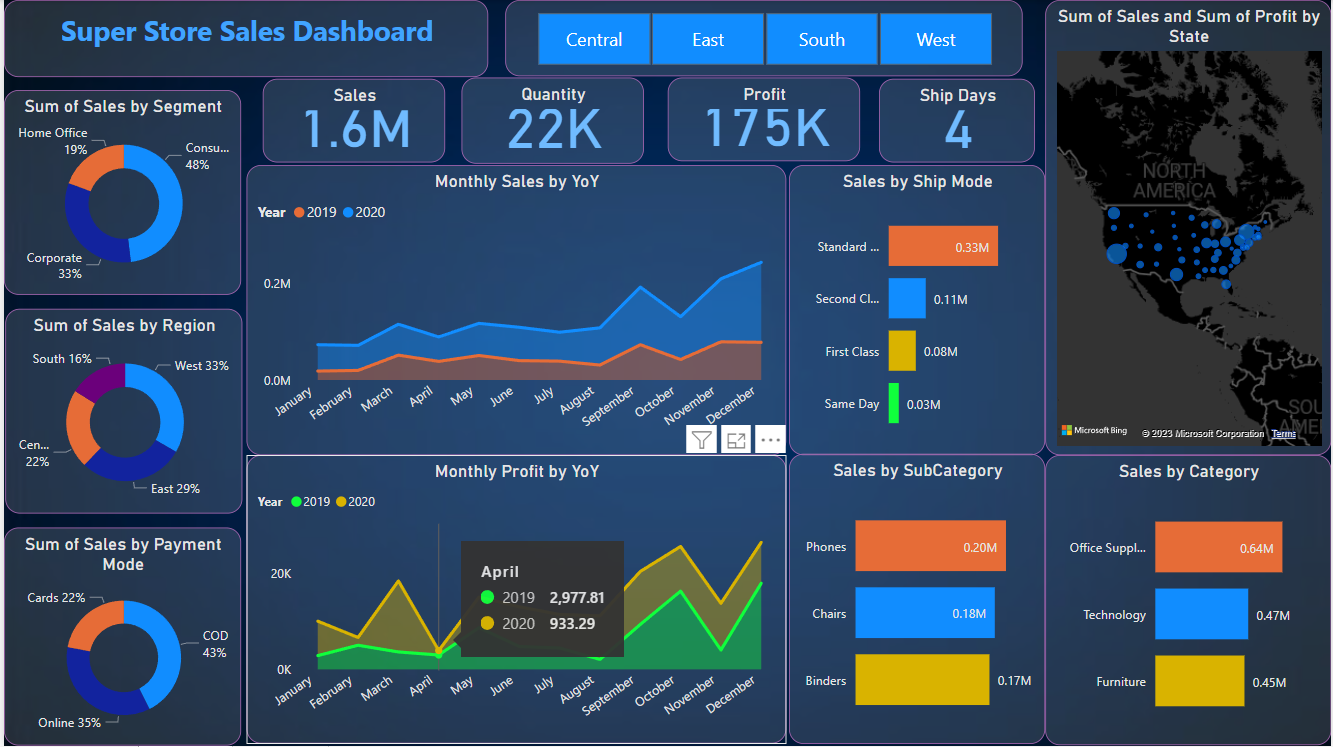

The dashboard page shown, as its layout file describes it:
{"tool":"powerbi","page":{"name":"Page 1","canvas":[1280,720],"ordinal":0},"visuals":[{"type":"clusteredBarChart","title":"Sales by Category","fields":{"Category":["SuperStore_Sales_Dataset (2).Category"],"Y":["Sum(SuperStore_Sales_Dataset (2).Sales)"]},"box":[1004.6,439,276.2,279.8],"z":0},{"type":"clusteredBarChart","title":"Sales by SubCategory","fields":{"Category":["SuperStore_Sales_Dataset (2).Sub-Category"],"Y":["Sum(SuperStore_Sales_Dataset (2).Sales)"]},"box":[757.4,437.8,247.2,279.8],"z":1000},{"type":"clusteredBarChart","title":"Sales by Ship Mode","fields":{"Category":["SuperStore_Sales_Dataset (2).Ship Mode"],"Y":["Sum(SuperStore_Sales_Dataset (2).Sales)"]},"box":[757.4,159.2,247.2,279.8],"z":2000},{"type":"stackedAreaChart","title":"Monthly Sales by YoY","fields":{"Y":["Sum(SuperStore_Sales_Dataset (2).Sales)"],"Category":["SuperStore_Sales_Dataset (2).Order Date.Variation.Date Hierarchy.Month"],"Series":["SuperStore_Sales_Dataset (2).Order Date.Variation.Date Hierarchy.Year"]},"box":[234,159.2,521,279.8],"z":3000},{"type":"stackedAreaChart","title":"Monthly Profit by YoY","fields":{"Series":["SuperStore_Sales_Dataset (2).Order Date.Variation.Date Hierarchy.Year"],"Category":["SuperStore_Sales_Dataset (2).Order Date.Variation.Date Hierarchy.Month"],"Y":["Sum(SuperStore_Sales_Dataset (2).Profit)"]},"box":[234,439,521,278.6],"z":4000},{"type":"map","fields":{"Category":["SuperStore_Sales_Dataset (2).State"],"Size":["Sum(SuperStore_Sales_Dataset (2).Sales)"]},"box":[1004.6,0,276.2,439],"z":5000},{"type":"donutChart","fields":{"Category":["SuperStore_Sales_Dataset (2).Segment"],"Y":["Sum(SuperStore_Sales_Dataset (2).Sales)"]},"box":[0,87.2,228.8,197.5],"z":6000},{"type":"donutChart","fields":{"Category":["SuperStore_Sales_Dataset (2).Region"],"Y":["Sum(SuperStore_Sales_Dataset (2).Sales)"]},"box":[1.6,297.9,228.8,197.5],"z":7000},{"type":"donutChart","fields":{"Y":["Sum(SuperStore_Sales_Dataset (2).Sales)"],"Category":["SuperStore_Sales_Dataset (2).Payment Mode"]},"box":[0,508.6,228.8,210.7],"z":8000},{"type":"slicer","fields":{"Values":["SuperStore_Sales_Dataset (2).Region"]},"box":[483.6,0,499.3,73.6],"z":9000},{"type":"textbox","box":[0,0,467.5,74.1],"z":10000},{"type":"card","title":"Sales","fields":{"Values":["Sum(SuperStore_Sales_Dataset (2).Sales)"]},"box":[250.2,75.7,176.1,80.7],"z":11000},{"type":"card","title":"Quantity","fields":{"Values":["Sum(SuperStore_Sales_Dataset (2).Quantity)"]},"box":[447.7,75.7,176.1,84],"z":12000},{"type":"card","title":"Profit","fields":{"Values":["Sum(SuperStore_Sales_Dataset (2).Profit)"]},"box":[640.3,74.1,186,82.3],"z":13000},{"type":"card","title":"Ship Days","fields":{"Values":["Avg(SuperStore_Sales_Dataset.AvgDelivery)"]},"box":[844.5,75.7,159.7,80.7],"z":14000}]}

Visuals, with their boxes in screenshot pixels (x1, y1, x2, y2), scaled from the page's 1280x720 canvas onto the 1333x747 screenshot:
"Sales by Category" clusteredBarChart: detection(1046, 455, 1332, 746)
"Sales by SubCategory" clusteredBarChart: detection(789, 454, 1046, 745)
"Sales by Ship Mode" clusteredBarChart: detection(789, 165, 1046, 455)
"Monthly Sales by YoY" stackedAreaChart: detection(244, 165, 786, 455)
"Monthly Profit by YoY" stackedAreaChart: detection(244, 455, 786, 745)
map - SuperStore_Sales_Dataset (2).State x Sum(SuperStore_Sales_Dataset (2).Sales): detection(1046, 0, 1332, 455)
donutChart - SuperStore_Sales_Dataset (2).Segment x Sum(SuperStore_Sales_Dataset (2).Sales): detection(0, 90, 238, 295)
donutChart - SuperStore_Sales_Dataset (2).Region x Sum(SuperStore_Sales_Dataset (2).Sales): detection(2, 309, 240, 514)
donutChart - Sum(SuperStore_Sales_Dataset (2).Sales) x SuperStore_Sales_Dataset (2).Payment Mode: detection(0, 528, 238, 746)
slicer - SuperStore_Sales_Dataset (2).Region: detection(504, 0, 1024, 76)
textbox: detection(0, 0, 487, 77)
"Sales" card: detection(261, 79, 444, 162)
"Quantity" card: detection(466, 79, 650, 166)
"Profit" card: detection(667, 77, 861, 162)
"Ship Days" card: detection(879, 79, 1046, 162)
